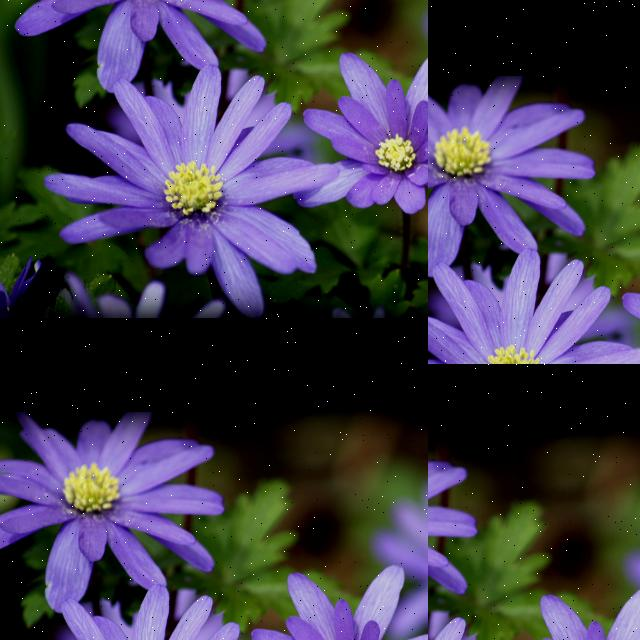flower: (477, 137, 517, 183), (214, 548, 256, 586), (106, 578, 148, 614), (153, 52, 190, 90)
